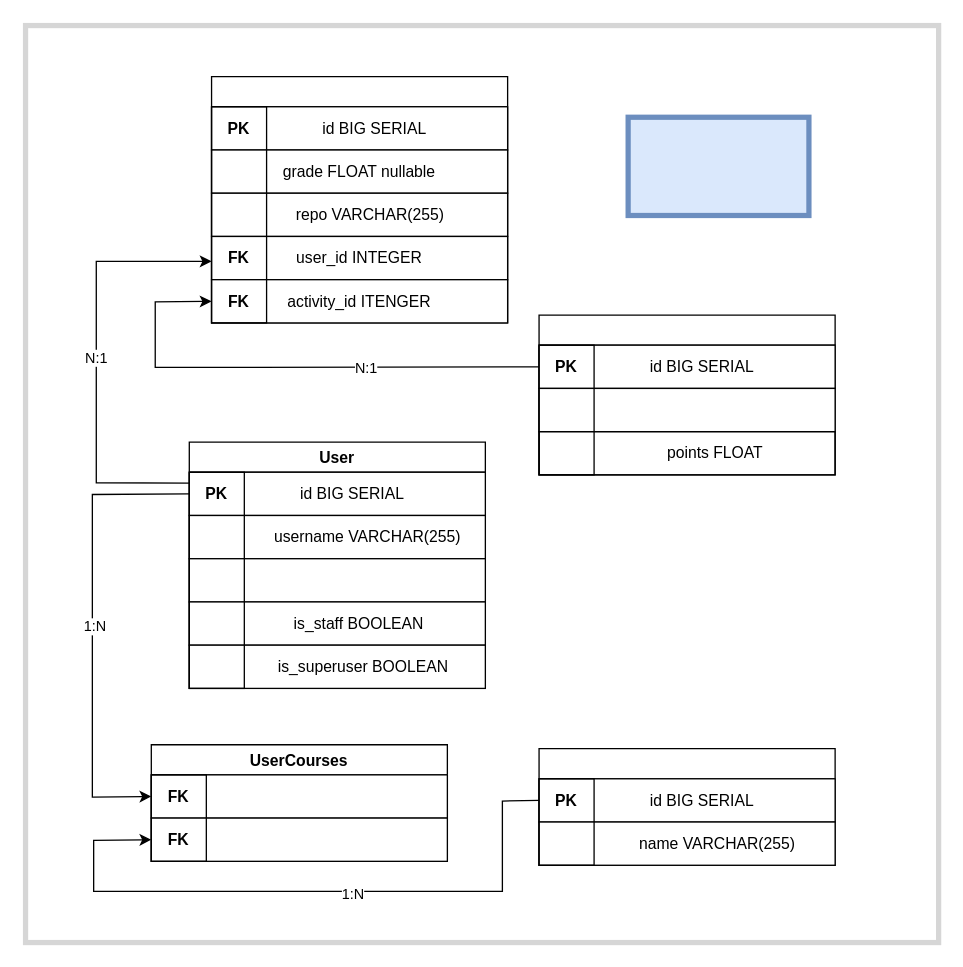
Some shapes in this 963 by 967 pixel diagram are drawn without their labels. Each missing label, with the box of its shape:
Activity: (538, 314, 835, 475)
Course: (538, 747, 835, 865)
course_id: (150, 817, 447, 861)
DIAGRAMA Entrega 2 - Kanvas: (625, 114, 811, 217)
password VARCHAR(255): (188, 557, 485, 602)
Submission: (210, 75, 508, 323)
title VARCHAR(255): (538, 387, 835, 432)
user_id: (150, 774, 447, 818)
